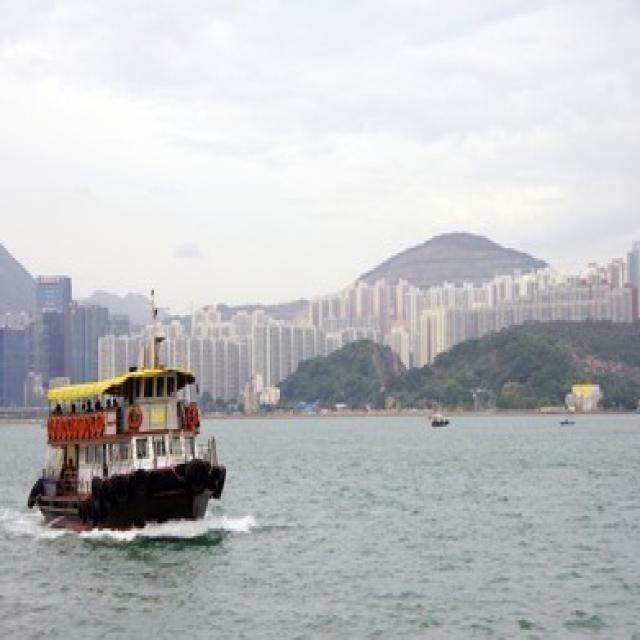passenger ship: (31, 303, 238, 555)
